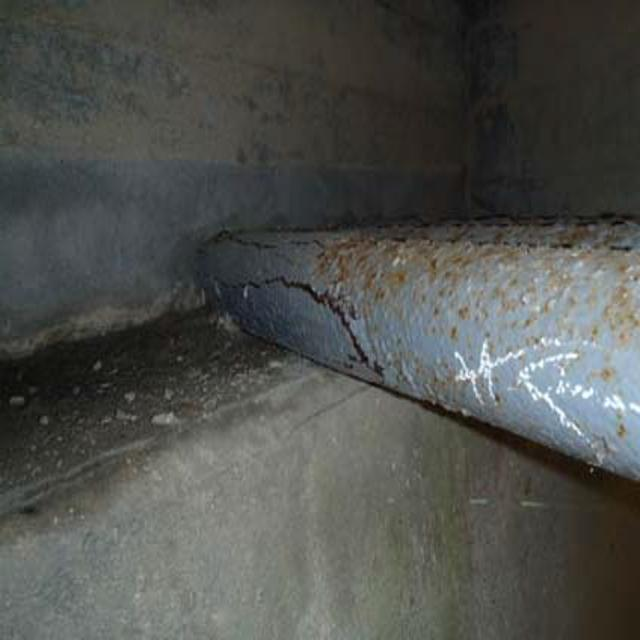corrosion: (313, 196, 634, 391)
